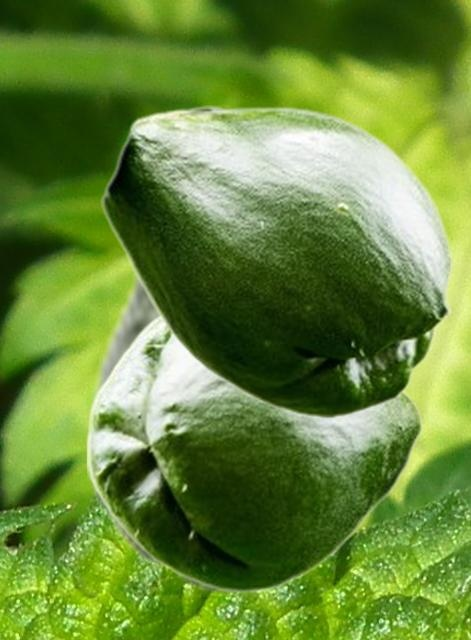sayote: (101, 105, 452, 418), (85, 313, 422, 592), (87, 261, 307, 596)
